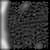node: (20, 2, 31, 12), (35, 43, 42, 50)
